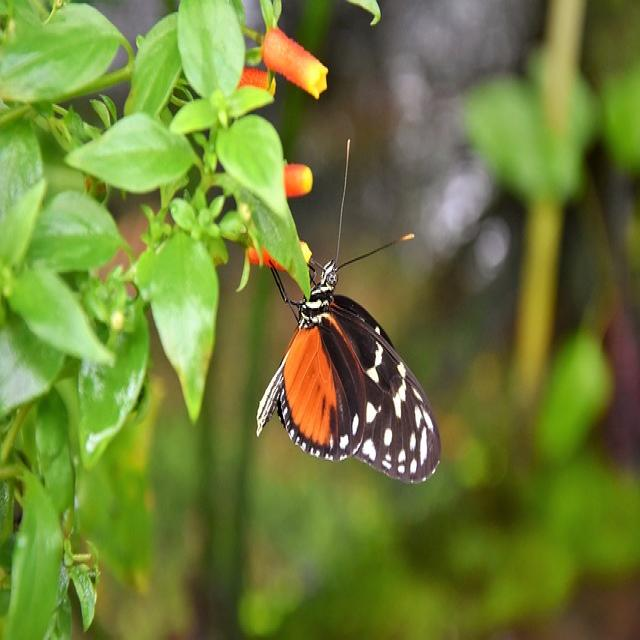butterfly: (256, 263, 442, 485)
